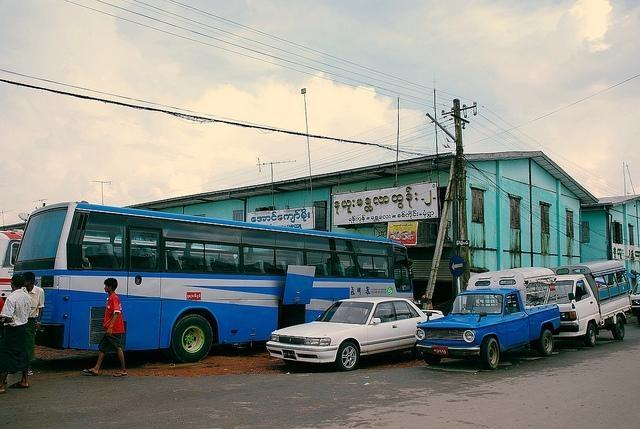bus: (9, 204, 416, 364), (0, 229, 25, 314)
car: (267, 294, 444, 370), (630, 278, 640, 325)
truck: (414, 266, 562, 370), (551, 260, 634, 346)
